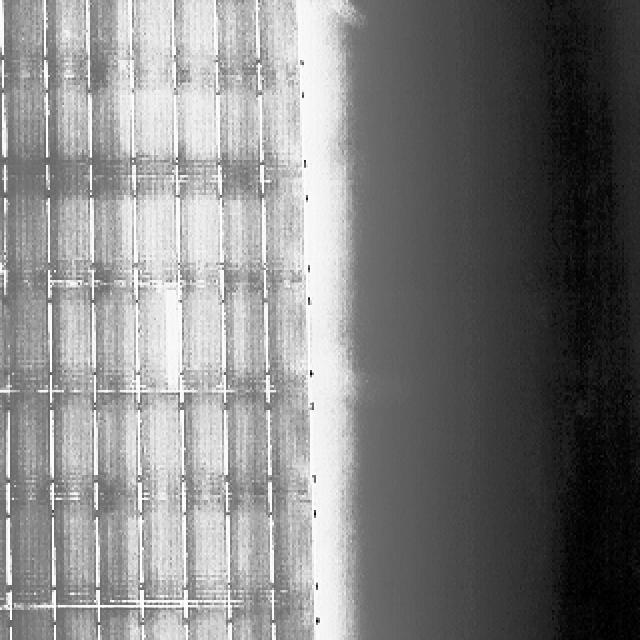Hotspots: (0, 255, 8, 280)
PV-modules: (110, 0, 172, 84), (5, 285, 52, 395), (180, 282, 227, 392), (55, 500, 101, 609), (93, 499, 138, 609), (220, 282, 265, 392), (50, 284, 94, 396), (2, 175, 48, 282), (266, 285, 310, 396), (5, 80, 51, 186), (91, 285, 135, 395), (6, 391, 51, 498), (136, 391, 181, 498), (92, 175, 136, 284), (134, 174, 178, 283), (178, 175, 222, 284), (7, 500, 52, 606), (221, 393, 266, 499), (264, 178, 308, 286), (226, 498, 270, 606), (271, 498, 315, 606), (136, 285, 179, 395), (138, 498, 182, 605), (183, 391, 227, 497), (269, 390, 313, 496), (52, 393, 96, 499), (91, 393, 135, 499), (222, 181, 266, 287), (48, 176, 92, 281), (217, 80, 260, 187), (260, 82, 304, 186), (186, 499, 229, 605), (46, 78, 90, 178), (92, 79, 134, 180), (130, 87, 174, 178), (174, 84, 218, 173), (172, 0, 217, 81), (258, 0, 302, 79), (214, 0, 258, 78), (44, 2, 88, 78), (88, 0, 131, 77), (0, 0, 42, 78), (272, 600, 316, 640), (8, 602, 54, 640), (186, 602, 230, 640), (52, 605, 98, 640), (140, 605, 184, 640), (226, 607, 272, 640), (94, 610, 140, 640), (0, 392, 8, 500), (0, 285, 4, 395), (0, 177, 4, 285), (0, 75, 4, 183), (0, 502, 4, 610), (0, 605, 12, 640), (0, 0, 2, 72)
